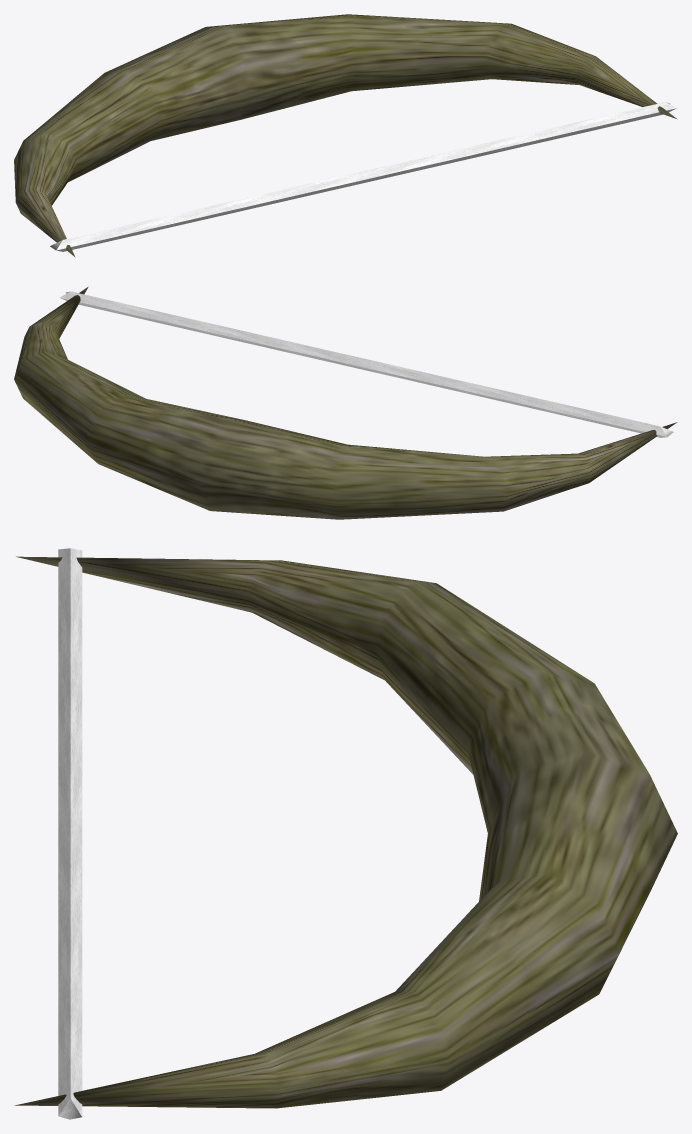
The model's file is bow.obj.
3 views of the same model, one above another, from view 1: azimuth 30°, elevation 25°; view 2: azimuth 150°, elevation 25°; view 3: azimuth 270°, elevation 25° (orthographic). The views are drawn at different scales.
Parts seen in each view (by area): view 1: Cylinder02, Box01; view 2: Cylinder02, Box01; view 3: Cylinder02, Box01.
Part boxes in pixels (x1,y1,x2,y2): Cylinder02: (14,14,677,257); Box01: (50,102,676,251); Cylinder02: (14,286,677,519); Box01: (59,291,673,437); Cylinder02: (14,556,677,1108); Box01: (58,548,82,1119).
Bounding box in the file's own units: 17.33 × 2.47 × 8.84.
